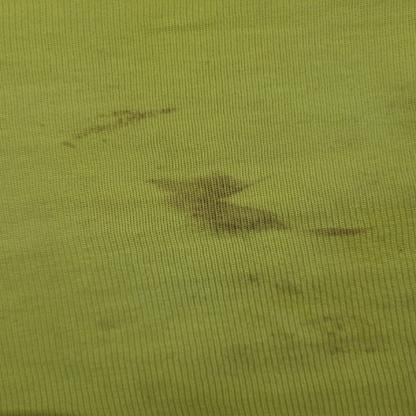spot: (133, 170, 404, 244), (250, 267, 394, 358), (176, 184, 384, 238), (55, 90, 192, 159)
